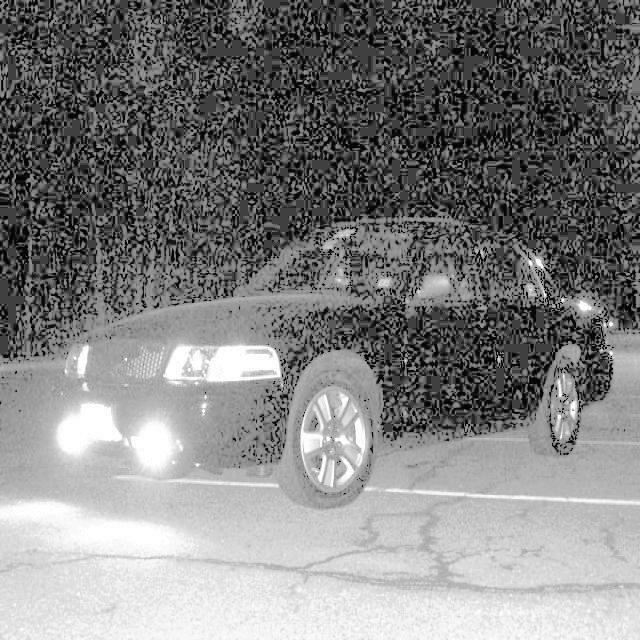Car: (6, 228, 638, 560)
